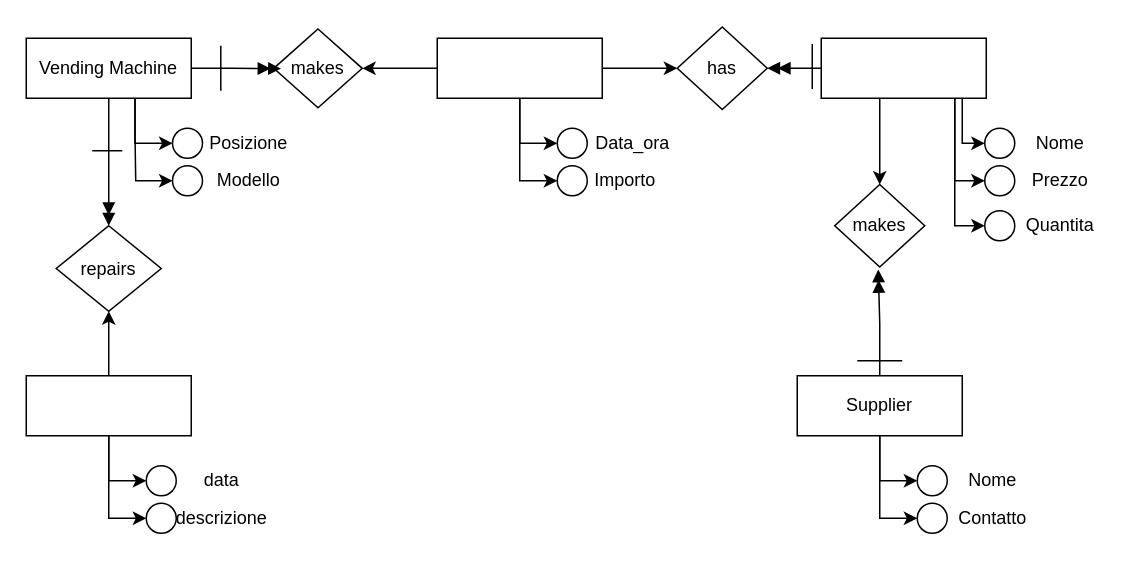
Some shapes in this 1139 by 566 pixel diagram are drawn without their labels. The box of each missing label's shape, as (x1, y1, x2, y2) in pixels:
Maintenance: (25, 374, 191, 436)
Product: (820, 37, 986, 98)
Transaction: (436, 37, 602, 98)
